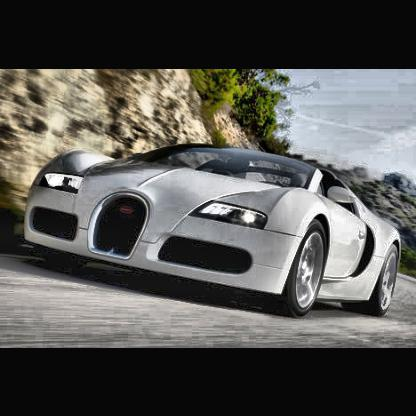Bugatti Veyron 16-4 Convertible 2009: (26, 143, 403, 319)
